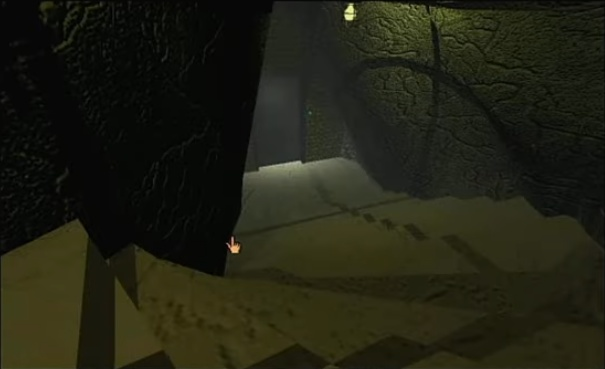Pointer: (224, 233, 244, 254)
